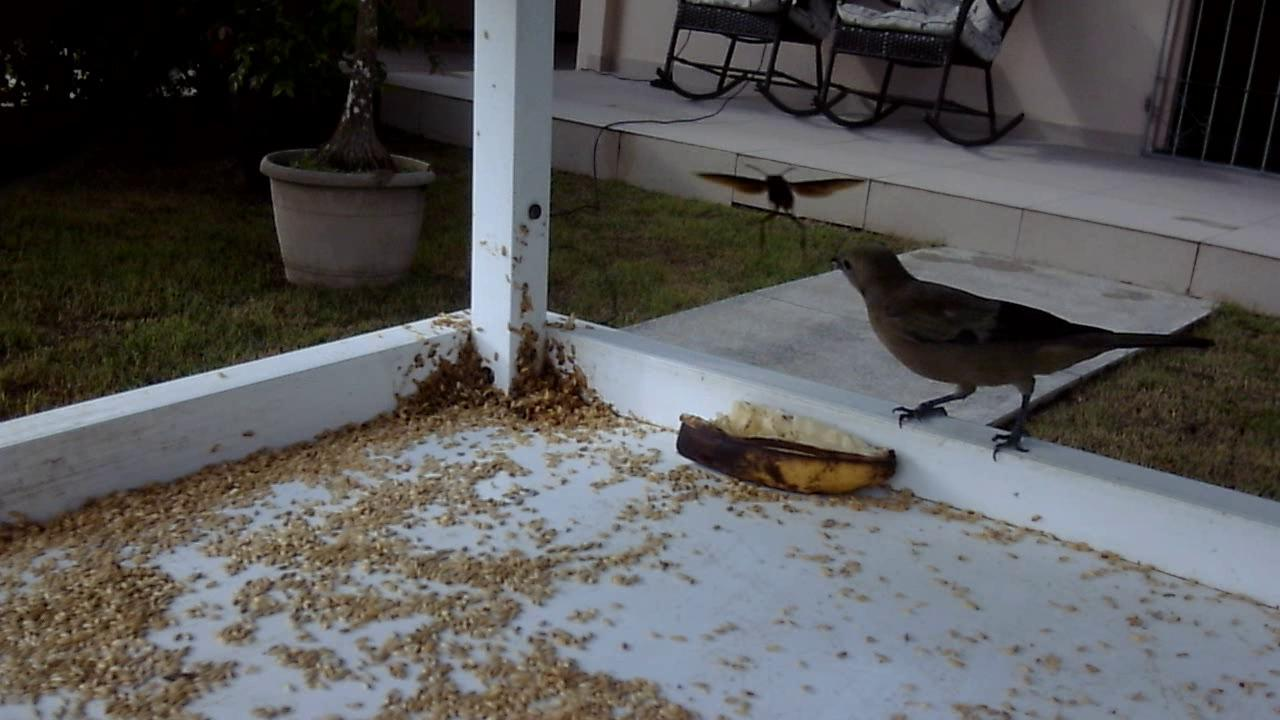sanhaco_do_coqueiro: (819, 233, 1226, 475)
